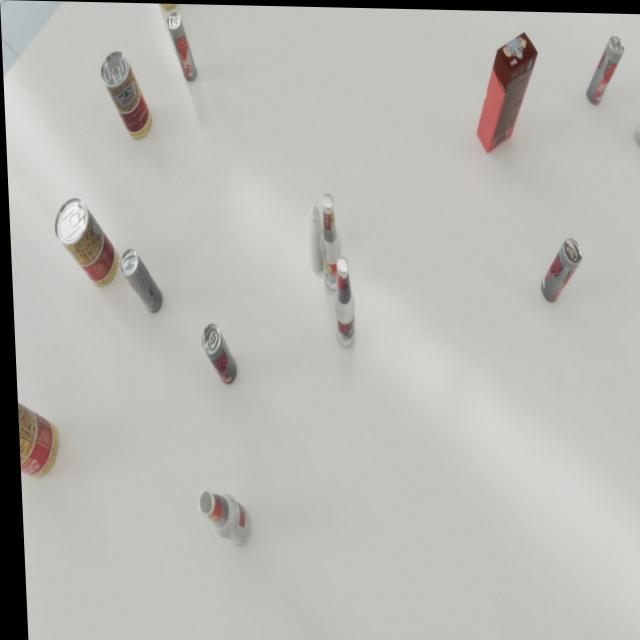Bottle: (193, 488, 247, 547), (317, 192, 341, 291), (329, 255, 354, 347)
HelloPanda: (472, 28, 541, 152)
Potato_sticks: (51, 197, 117, 287), (99, 50, 152, 140)
Rita_zero_sugar: (584, 33, 626, 103), (537, 235, 581, 300), (117, 248, 160, 313), (198, 323, 234, 384), (166, 11, 197, 81)
Salt: (305, 202, 324, 269)
